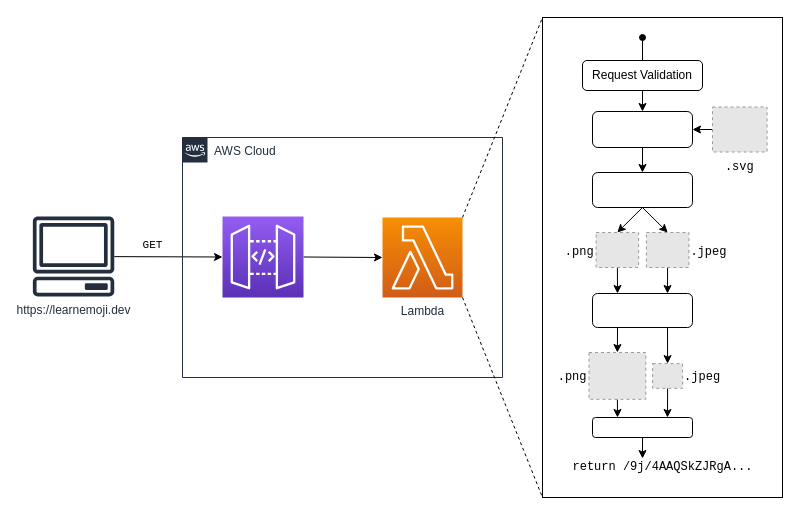
Image size: 801x516. Some labels were removed from this diagram. Grey dashed boxes stand in for pictures. The shapes that lost their labels are listed below. From the top down, each one's centre as x and y in pixels, then its label:
At point 642,129: "Download SVG Source".
At point 642,190: "Convert Image".
At point 263,257: "API Gateway".
At point 642,310: "Resize Image".
At point 642,427: "Encode".
